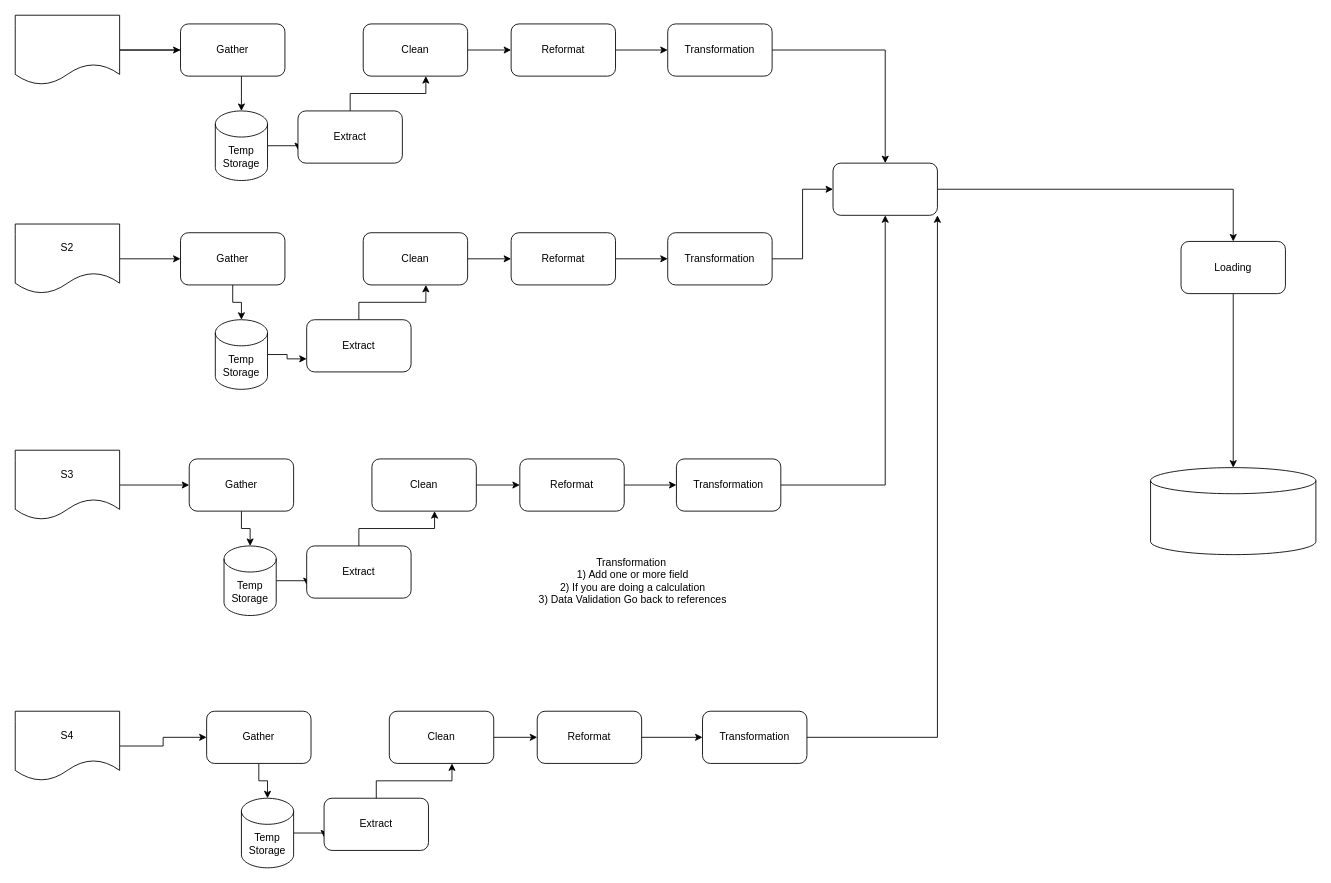
Some shapes in this 1331 by 883 pixel diagram are drawn without their labels. The shapes that lost their labels are listed below. From the top down, each one's box as (x1, y1, x2, y2) in pixels, then its label:
(14, 14, 120, 85): S1
(832, 162, 937, 215): Consolidate
(1150, 467, 1316, 555): DataWarehouse
